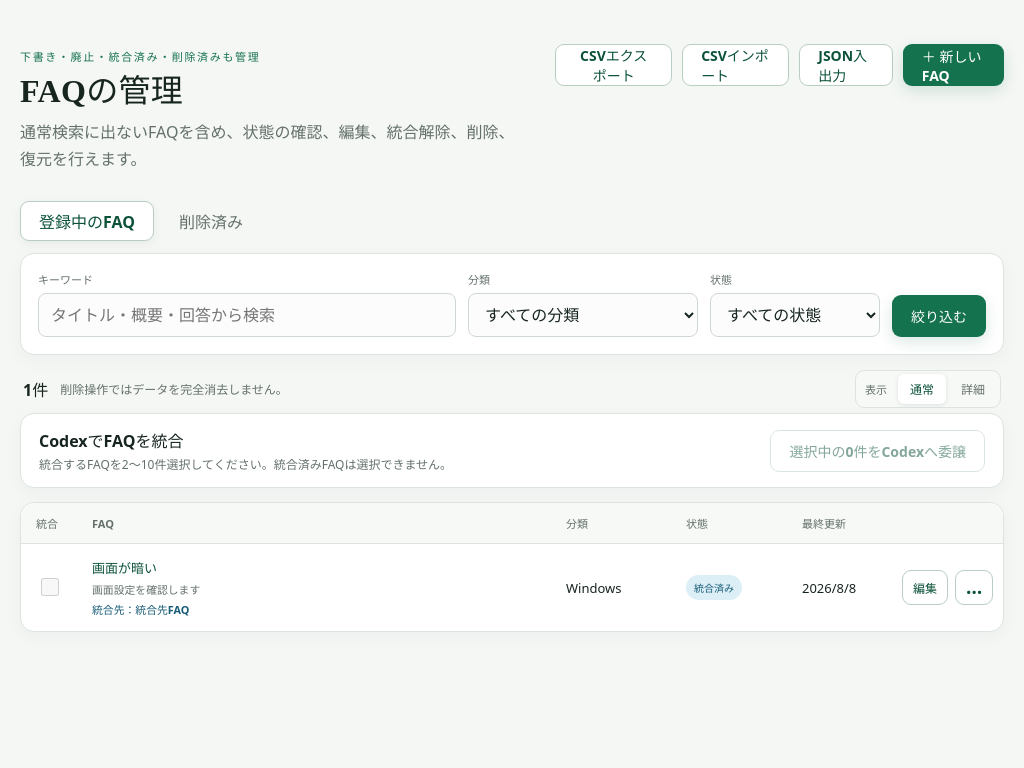
ArticleManagementPage › shows the integrated target, prevents re-selection, and can clear the relation
This screenshot has width=1024, height=768.
Expected: the text "統合済み" is shown, [686,575,742,600]
Expected: the link "統合先FAQ" is shown, [135,602,189,617]
Click the button named "「画面が暗い」のその他の操作".
click(974, 588)  # box [955,570,993,605]
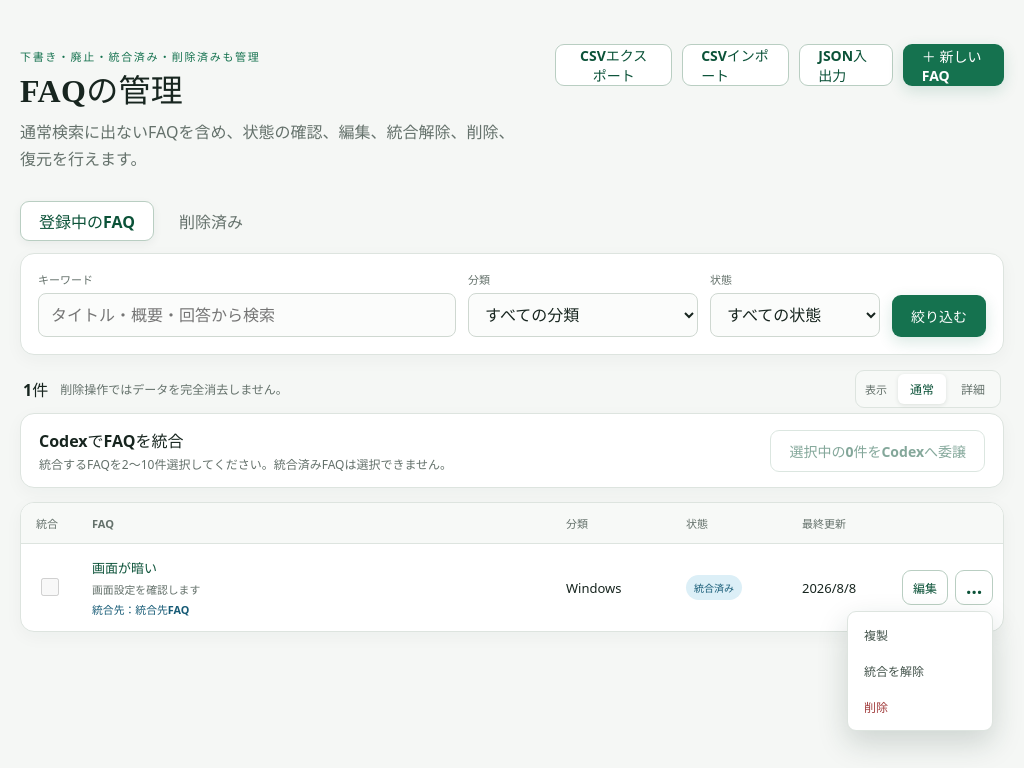
Click the menu item "統合を解除".
click(920, 671)  # box [853,653,987,689]
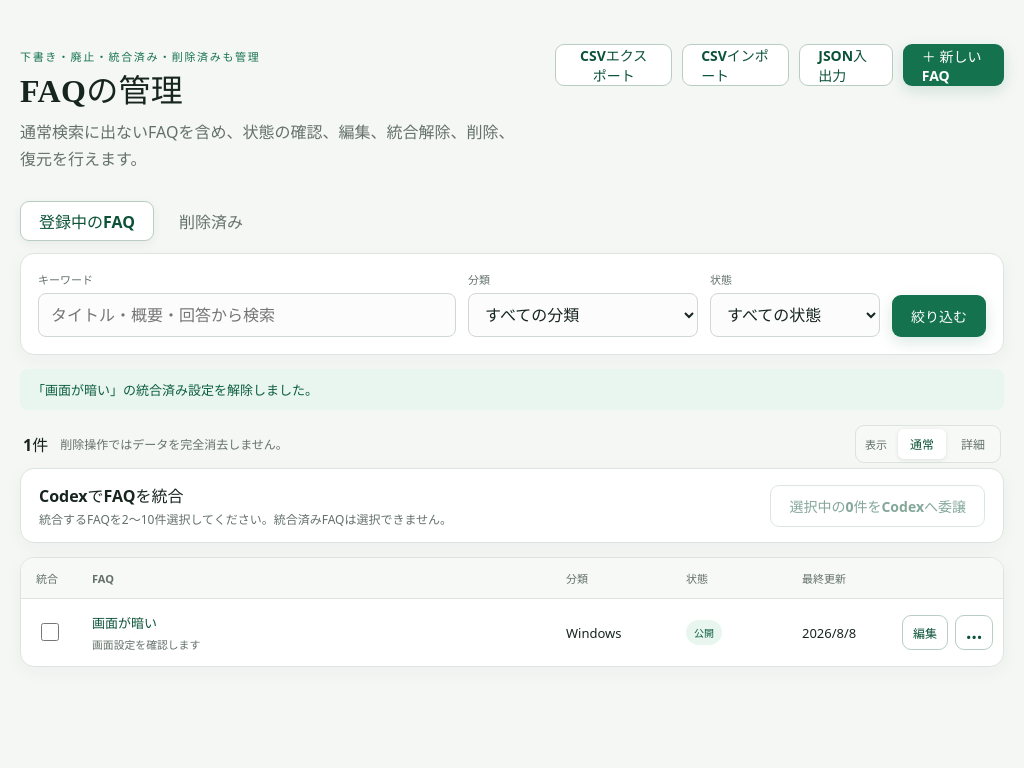
Result: the text "「画面が暗い」の統合済み設定を解除しました。" is shown at [20,369,1004,410]
